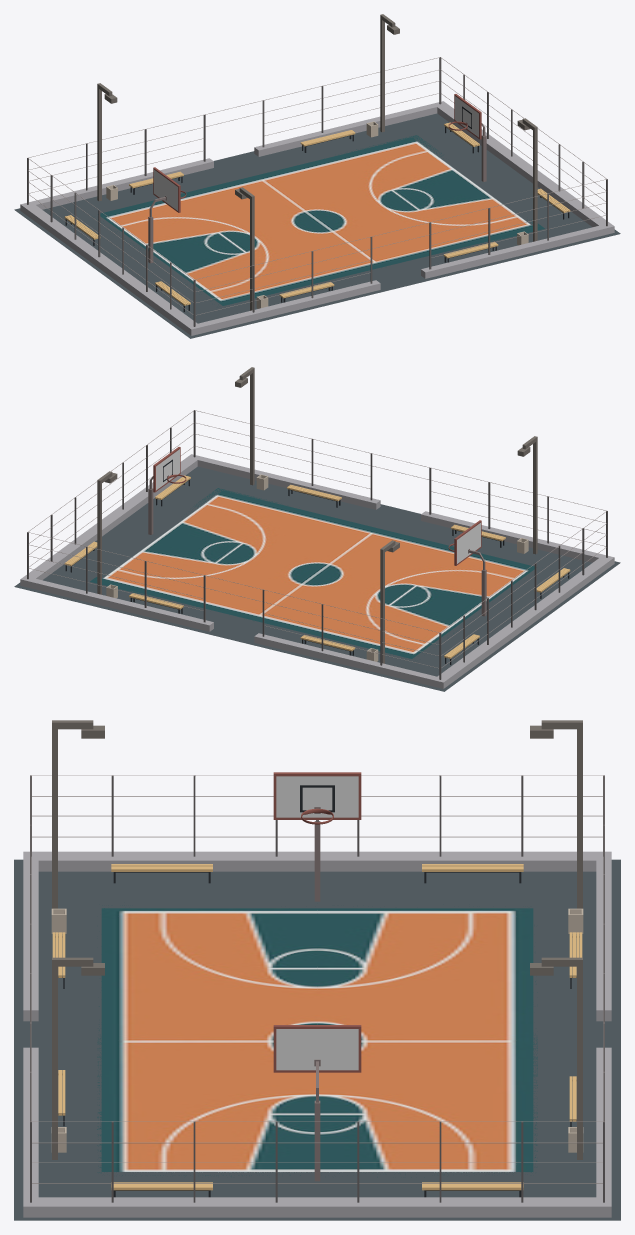
The model's file is basketball_court.glb.
3 views of the same model, one above another, from view 1: azimuth 30°, elevation 25°; view 2: azimuth 150°, elevation 25°; view 3: azimuth 270°, elevation 25° (orthographic). The views are drawn at different scales.
Visible parts, largest first — view 1: Court_2, Base_1, Mesh_Bars_7, Light Pillars_3, Benches_4, Basketball_Stand_6, Dust_Bin_5; view 2: Court_2, Base_1, Mesh_Bars_7, Light Pillars_3, Benches_4, Basketball_Stand_6, Dust_Bin_5; view 3: Court_2, Base_1, Basketball_Stand_6, Light Pillars_3, Mesh_Bars_7, Benches_4, Dust_Bin_5.
Boxes of the visible parts, bbox=[...] form: Court_2: bbox=[92, 135, 544, 305]; Base_1: bbox=[14, 57, 620, 338]; Mesh_Bars_7: bbox=[28, 57, 606, 315]; Light Pillars_3: bbox=[97, 14, 537, 310]; Benches_4: bbox=[64, 122, 570, 311]; Basketball_Stand_6: bbox=[148, 94, 486, 263]; Dust_Bin_5: bbox=[106, 121, 528, 308]; Court_2: bbox=[90, 488, 536, 658]; Base_1: bbox=[14, 410, 620, 691]; Mesh_Bars_7: bbox=[28, 410, 606, 668]; Light Pillars_3: bbox=[97, 367, 537, 663]; Benches_4: bbox=[64, 475, 570, 664]; Basketball_Stand_6: bbox=[148, 447, 486, 616]; Dust_Bin_5: bbox=[106, 474, 528, 661]; Court_2: bbox=[97, 905, 537, 1177]; Base_1: bbox=[14, 775, 620, 1220]; Basketball_Stand_6: bbox=[273, 772, 361, 1181]; Light Pillars_3: bbox=[52, 720, 582, 1159]; Mesh_Bars_7: bbox=[30, 775, 604, 1183]; Benches_4: bbox=[52, 864, 582, 1197]; Dust_Bin_5: bbox=[51, 908, 583, 1152].
Bounding box in the file's own units: 5.79 × 1.51 × 4.11.
12 materials, 1 textured.
